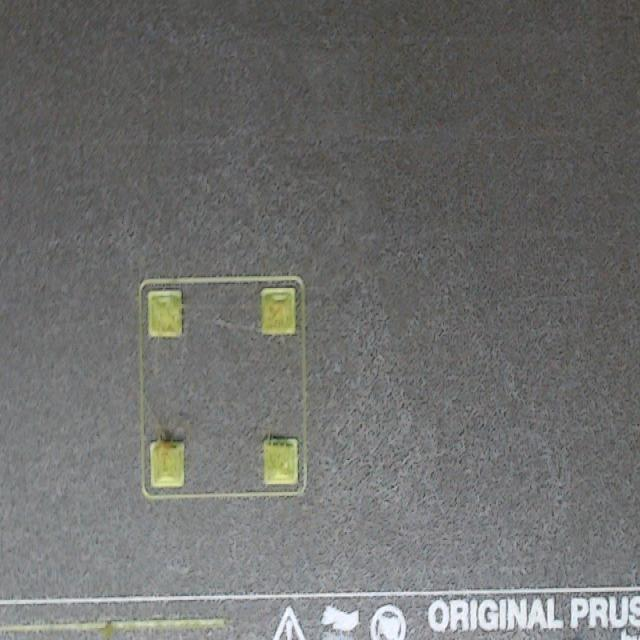mistake: (265, 439, 297, 484), (150, 291, 181, 331), (151, 444, 176, 483), (263, 305, 295, 333)
